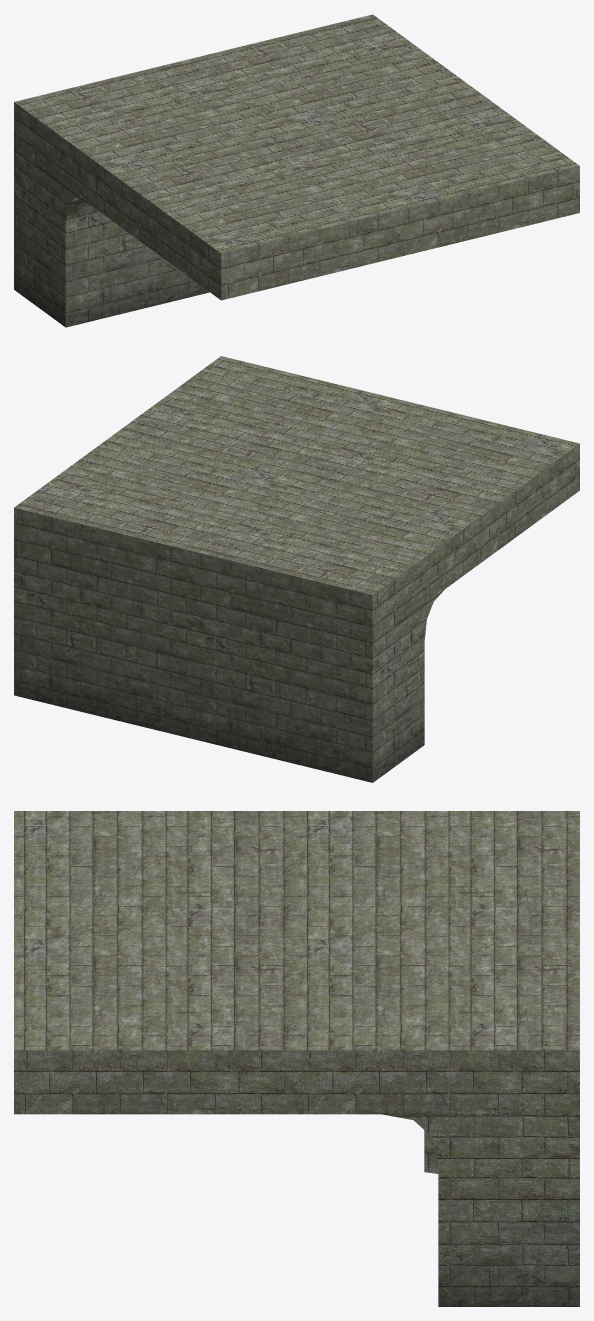
The model's file is rooffittingbolt.fbx.
The picture shows the model from 3 angles, top to bottom: view 1: azimuth 30°, elevation 25°; view 2: azimuth 150°, elevation 25°; view 3: azimuth 270°, elevation 25°; orthographic projection. The views are drawn at different scales.
Visible parts, largest first — view 1: Mesh Object; view 2: Mesh Object; view 3: Mesh Object.
Part boxes in pixels (box(x1,y1,x2,y2)): Mesh Object: box(14, 14, 579, 327); Mesh Object: box(14, 356, 579, 782); Mesh Object: box(14, 811, 579, 1306).
Size of the model in its own units: 4 by 2 by 4.
